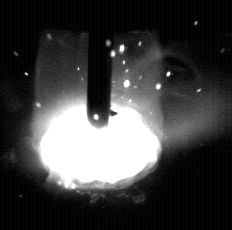arame: (88, 0, 111, 128)
poca: (33, 0, 163, 230)
